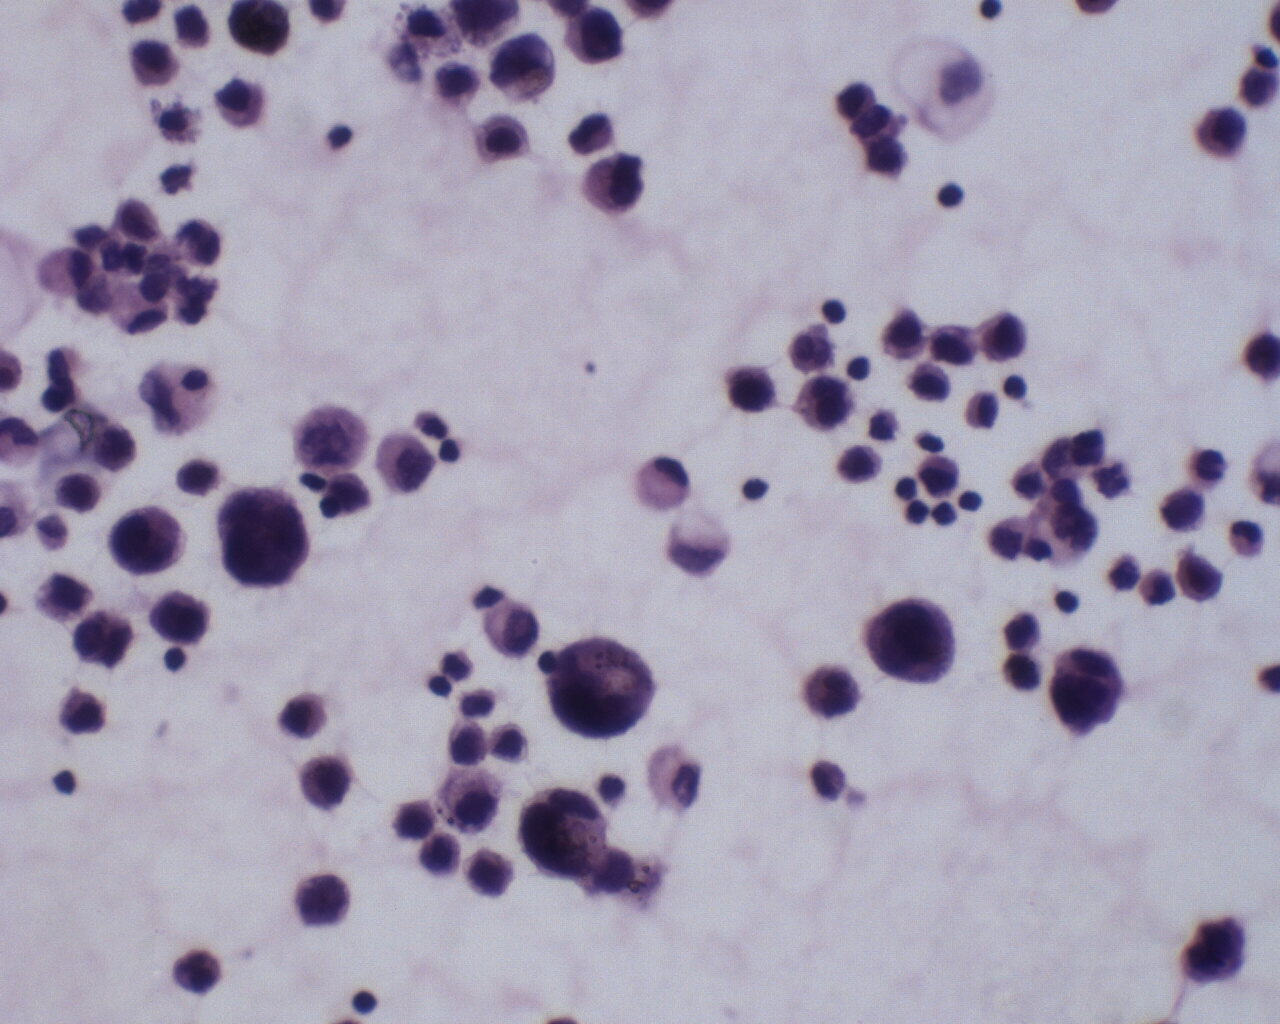ab: (544, 635, 660, 744), (208, 484, 311, 585), (518, 779, 615, 885), (863, 594, 965, 688), (1046, 645, 1133, 739), (109, 505, 193, 580), (1176, 912, 1253, 992), (576, 148, 648, 222), (487, 32, 559, 106), (560, 3, 631, 70), (791, 370, 859, 439), (222, 1, 296, 60), (290, 757, 360, 816), (804, 662, 866, 727), (147, 585, 213, 647), (373, 430, 434, 496), (483, 598, 544, 661), (293, 868, 354, 928), (1187, 101, 1250, 160), (1150, 483, 1211, 540), (461, 842, 515, 901), (979, 307, 1031, 367), (130, 37, 178, 90)
histo: (636, 453, 695, 520)
lymph: (348, 984, 385, 1019), (50, 762, 82, 800), (937, 177, 967, 211)
meso: (470, 108, 540, 164)
